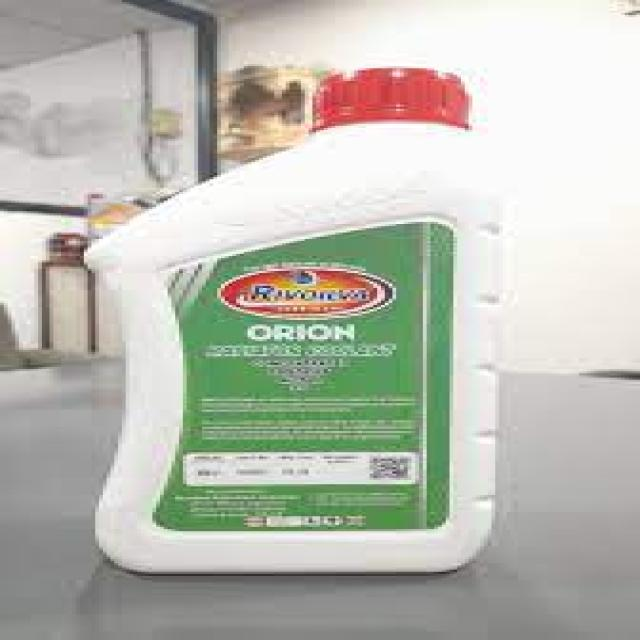coolant: (82, 60, 503, 576)
